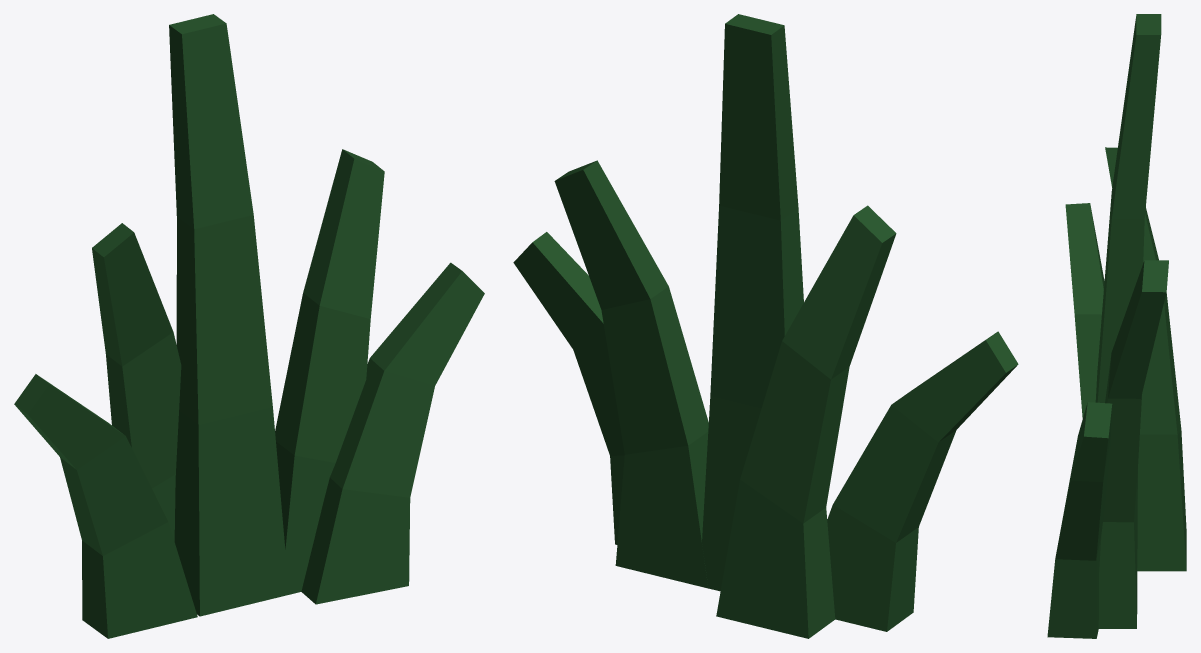
The model's file is grass_clump_lg.glb.
The picture shows the model from 3 angles, left to right: view 1: azimuth 30°, elevation 25°; view 2: azimuth 150°, elevation 25°; view 3: azimuth 270°, elevation 25°; orthographic projection. The views are drawn at different scales.
Parts seen in each view (by area): view 1: grassblade.001, grassblade.005, grassblade.002, grassblade.003, grassblade.004; view 2: grassblade.004, grassblade.001, grassblade.002, grassblade.003, grassblade.005; view 3: grassblade.002, grassblade.001, grassblade.004, grassblade.005, grassblade.003.
Boxes of the visible parts, left/top/right/bottom form: grassblade.001: left=169, top=14, right=289, bottom=616; grassblade.005: left=301, top=262, right=484, bottom=604; grassblade.002: left=275, top=149, right=384, bottom=594; grassblade.003: left=14, top=374, right=197, bottom=638; grassblade.004: left=92, top=223, right=181, bottom=541; grassblade.004: left=716, top=205, right=896, bottom=638; grassblade.001: left=699, top=14, right=803, bottom=591; grassblade.002: left=554, top=160, right=708, bottom=588; grassblade.003: left=827, top=331, right=1018, bottom=631; grassblade.005: left=513, top=232, right=624, bottom=544; grassblade.002: left=1098, top=260, right=1168, bottom=628; grassblade.001: left=1095, top=14, right=1161, bottom=582; grassblade.004: left=1105, top=147, right=1186, bottom=571; grassblade.005: left=1047, top=402, right=1112, bottom=638; grassblade.003: left=1065, top=203, right=1104, bottom=418.
Size of the model in its own units: 1.05 by 1.2 by 0.2813.
